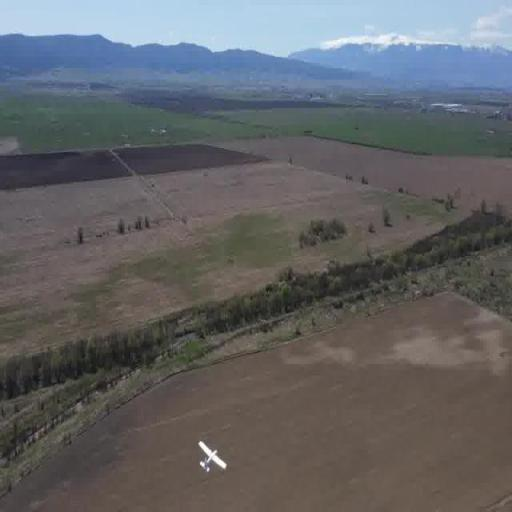uav: (195, 436, 229, 478)
